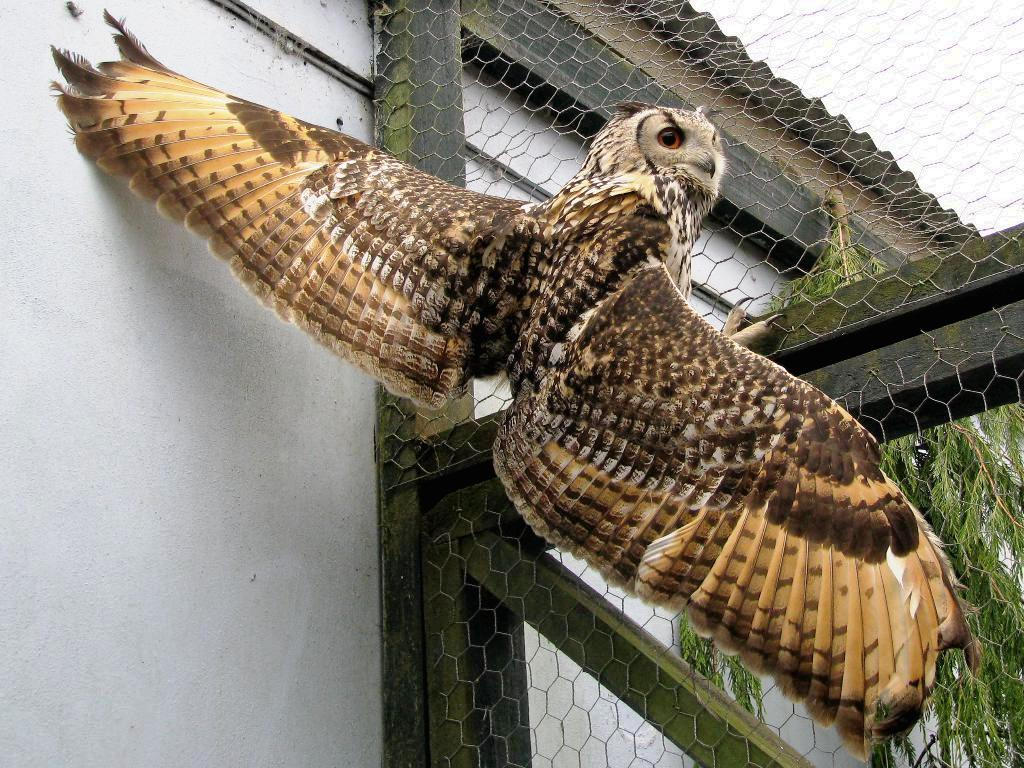Owl: (49, 37, 958, 767)
